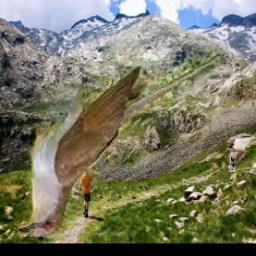Cuckoo: (16, 47, 231, 238), (225, 134, 256, 174)
